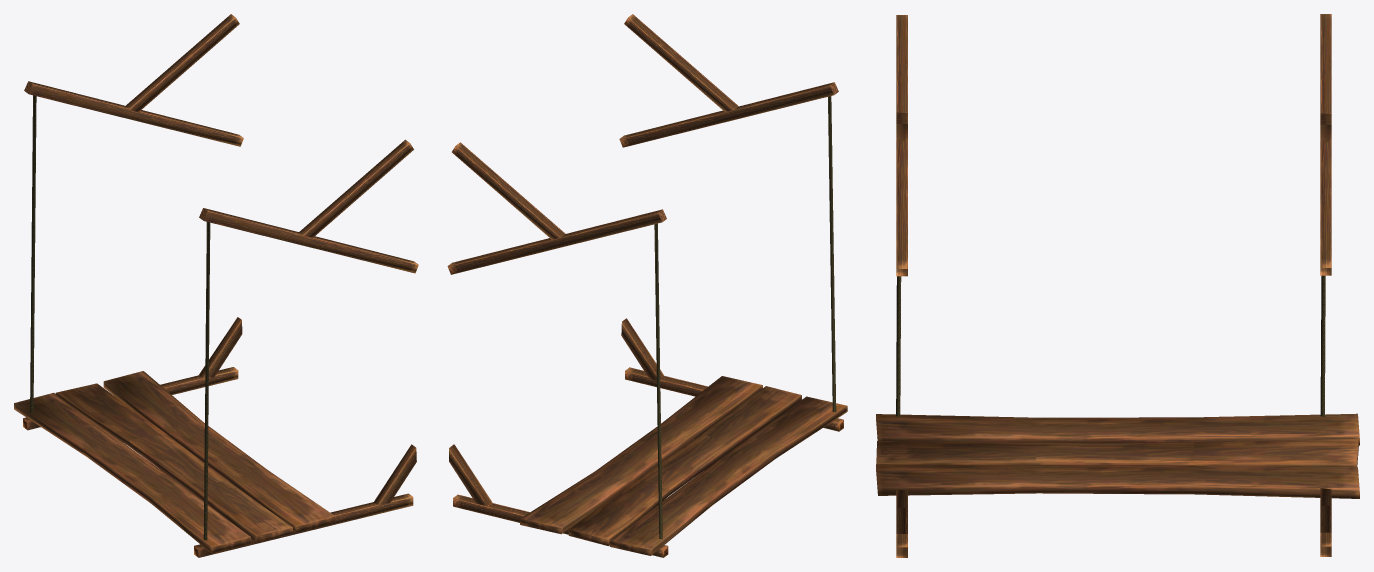
The model's file is INST_SWORDLIGHT_WALLPLATB.fbx.
3 renders of one model, left to right at view 1: azimuth 30°, elevation 25°; view 2: azimuth 150°, elevation 25°; view 3: azimuth 270°, elevation 25°, orthographic. The views are drawn at different scales.
Parts seen in each view (by area): view 1: INST_SWORDLIGHT_WALLPLATB; view 2: INST_SWORDLIGHT_WALLPLATB; view 3: INST_SWORDLIGHT_WALLPLATB.
Boxes of the visible parts, left/top/right/bottom form: INST_SWORDLIGHT_WALLPLATB: left=14, top=14, right=418, bottom=557; INST_SWORDLIGHT_WALLPLATB: left=447, top=14, right=847, bottom=557; INST_SWORDLIGHT_WALLPLATB: left=876, top=14, right=1359, bottom=557.
Size of the model in its own units: 31449 by 49582 by 48972.
3 materials, 3 textured.
